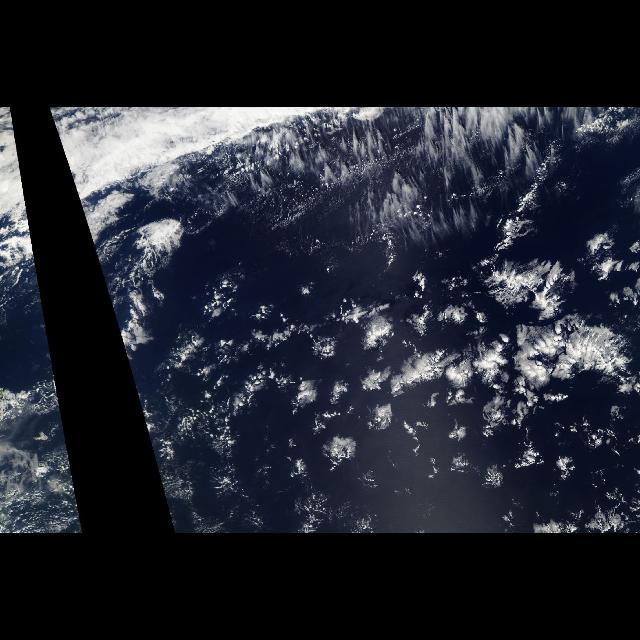Flower: (125, 220, 640, 532)
